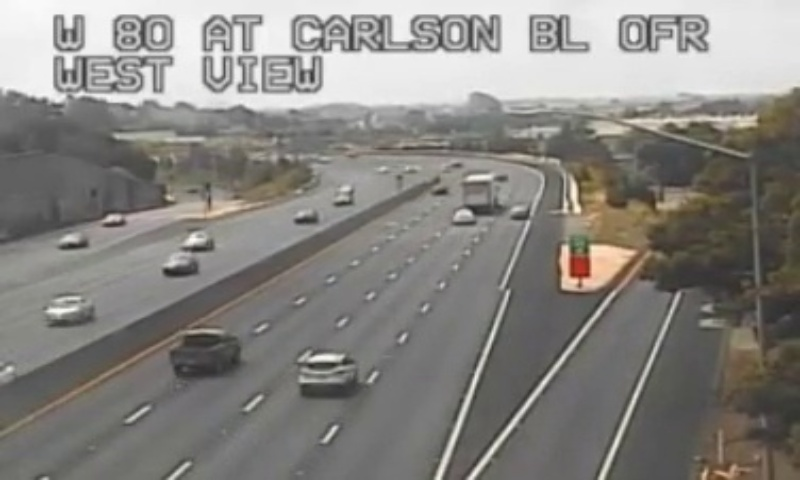car: (168, 328, 240, 369), (295, 351, 357, 387)
